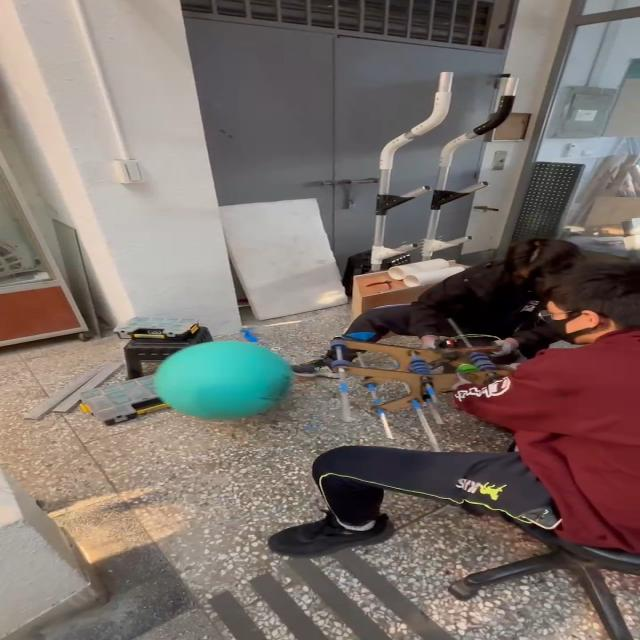ALGAE: (151, 340, 294, 422)
